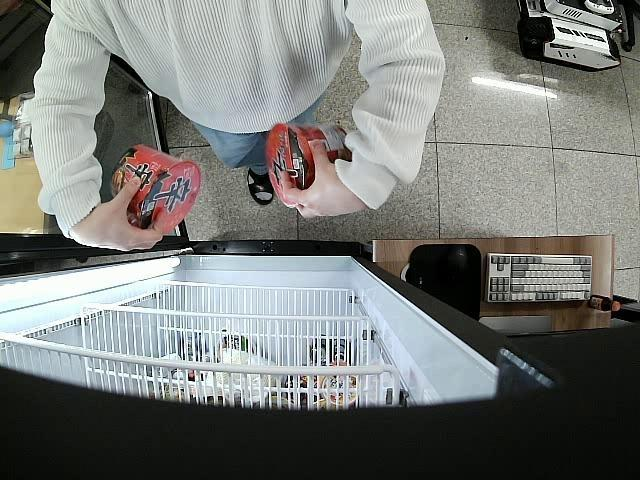01_ShinRamen_L: (109, 144, 202, 235), (264, 123, 352, 208)
